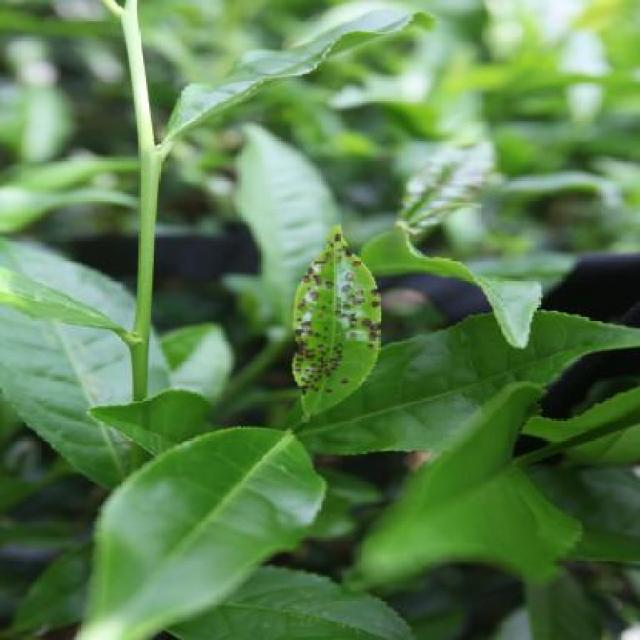Tea Mosquito bug infested leaf: (280, 226, 383, 422)
